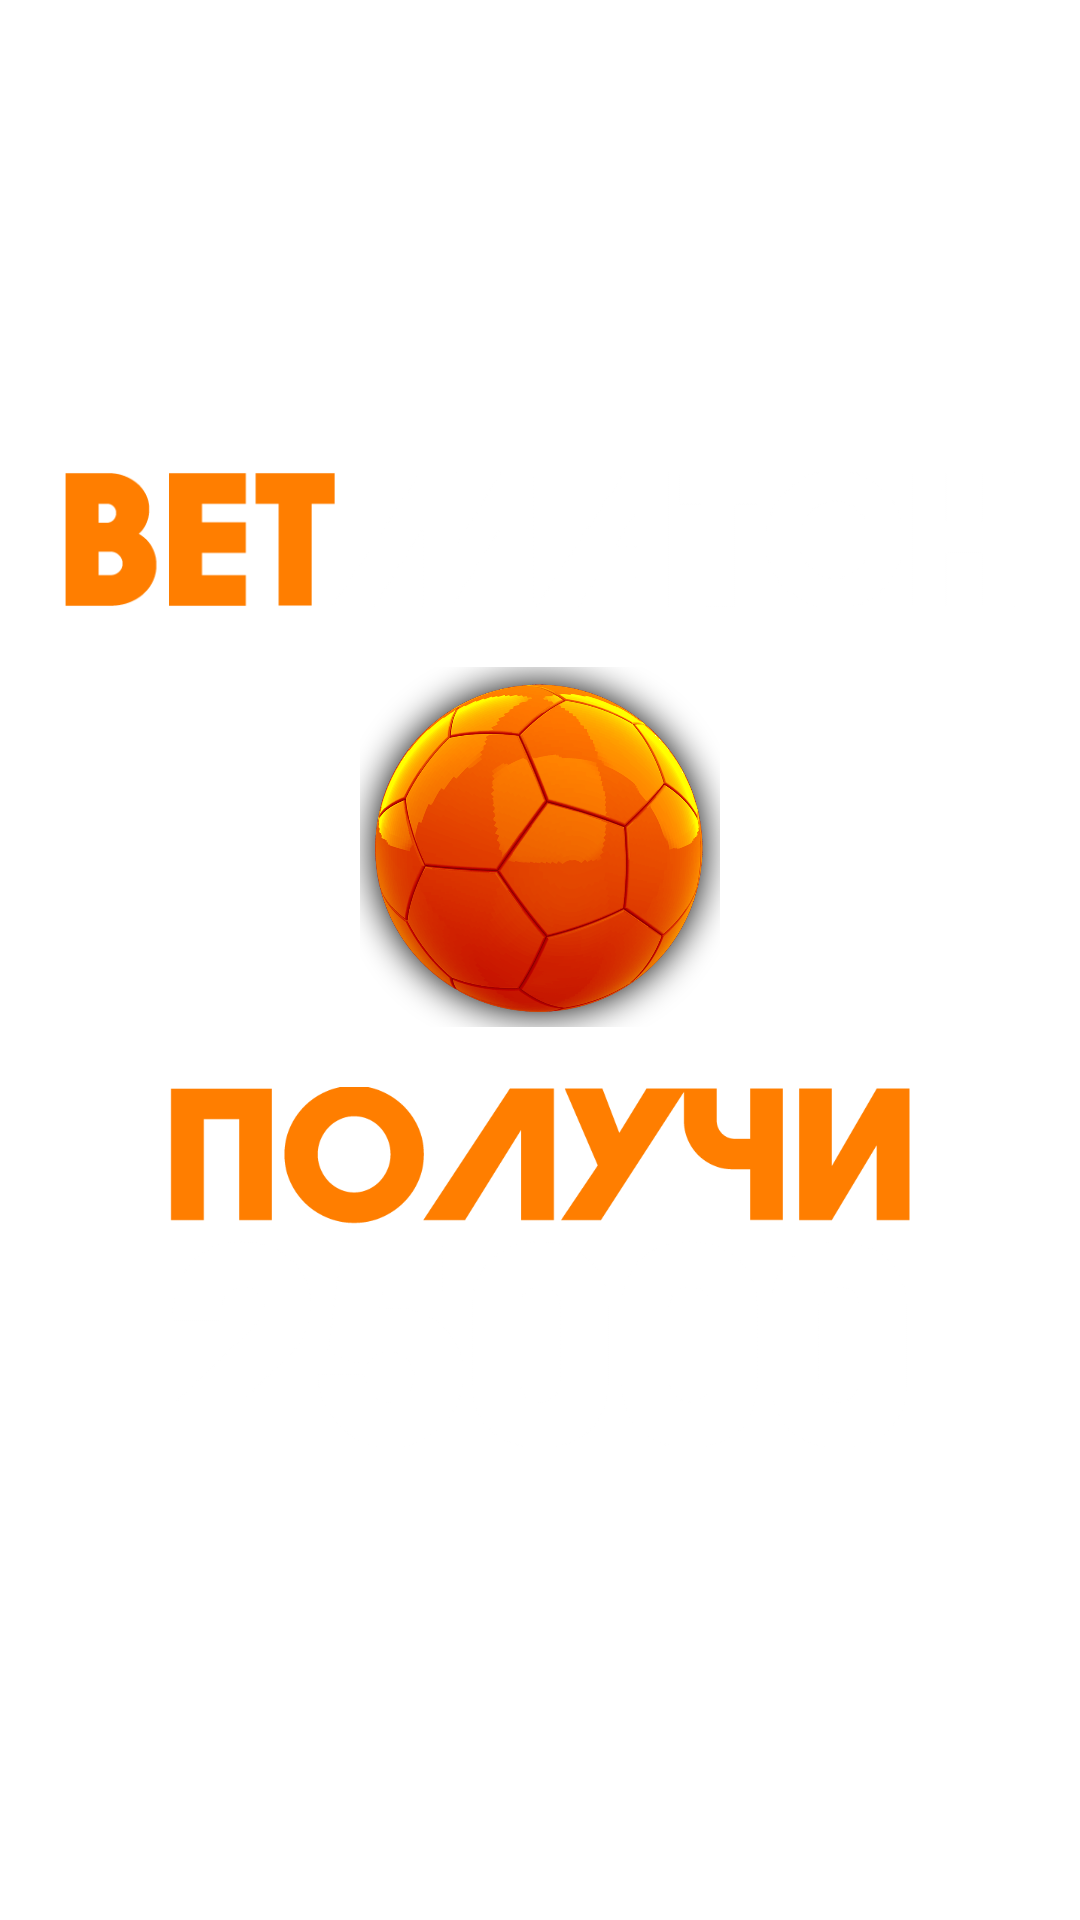

Locate icon controls on the screen. Image size 1080*1920, boxes as (x1, y1, x2, y2).
ball: (360, 667, 720, 1027)
